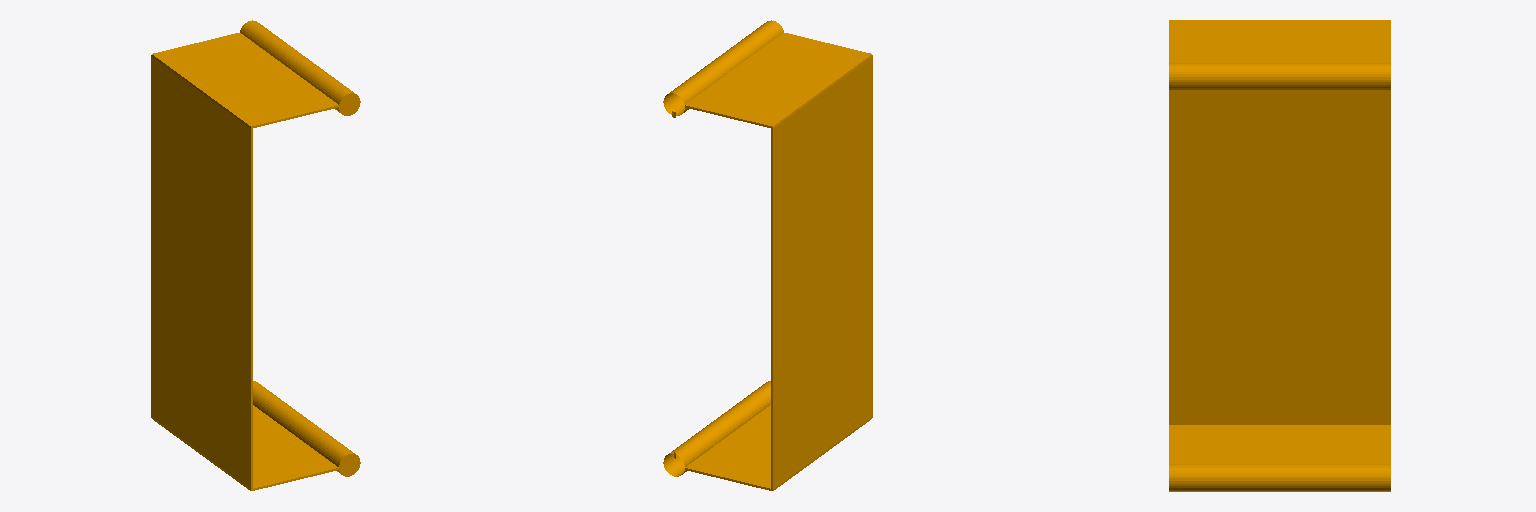
The robot description file, URDF, robot "spl-goalpost.urdf":
<?xml version="1.0" ?>
<robot name="spl-goalpost.urdf">
  <link name="baseLink">
    <visual>
      <origin rpy="0 0 0" xyz="0 0 0"/>
      <geometry>
        <mesh filename="spl-goalpost-v2.obj" scale="0.09 0.09 0.09"/>
      </geometry>
      <material name="spl-goalpost-v2">
        <texture filename="spl-goalpost-v2.mtl"/>
      </material>
    </visual>
    <collision>
      <origin rpy="0 0 0" xyz="0 0 0"/>
      <geometry>
	 	<mesh filename="spl-goalpost-v2.obj" scale="0.09 0.09 0.09"/>
      </geometry>
    </collision>
  </link>
</robot>

--- Render facts (derived) ---
3 views of the same robot in one strip: view 1: azimuth 30°, elevation 25°; view 2: azimuth 150°, elevation 25°; view 3: azimuth 270°, elevation 25° (orthographic).
Robot: spl-goalpost.urdf — 1 links, 0 joints (none); root link baseLink; default pose: every joint at zero.
Visible links, largest first — view 1: baseLink; view 2: baseLink; view 3: baseLink.
Link boxes in pixels (x1=…): baseLink: x1=151, y1=20, x2=360, y2=490; baseLink: x1=663, y1=20, x2=872, y2=490; baseLink: x1=1169, y1=20, x2=1390, y2=491.
Bounding box of the posed robot: 0.459 × 0.7209 × 1.53 m (x, y, z).
1 mesh visuals loaded from 1 distinct referenced files (1 OBJ).